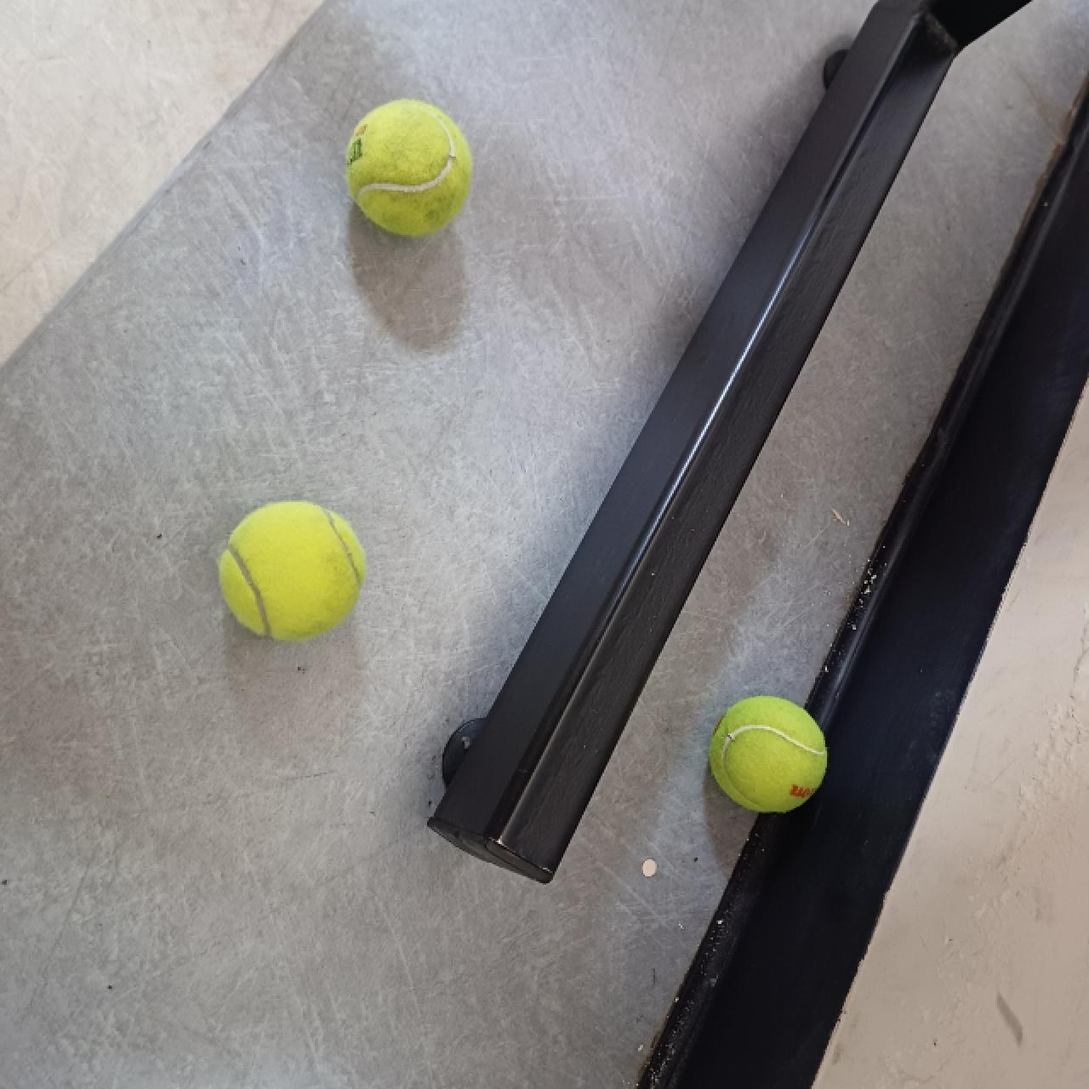tennis-ball: (216, 498, 366, 639), (344, 97, 473, 240), (707, 693, 829, 812)
